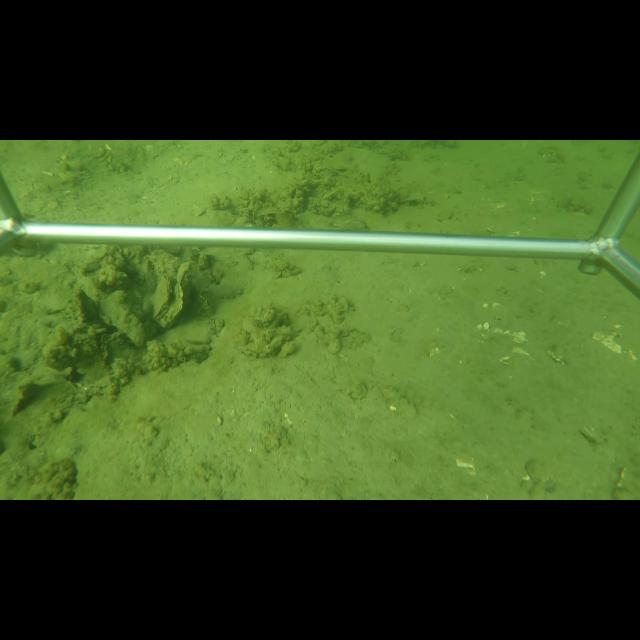Oyster-Closed: (104, 291, 149, 348), (161, 258, 195, 329), (145, 271, 172, 321)
